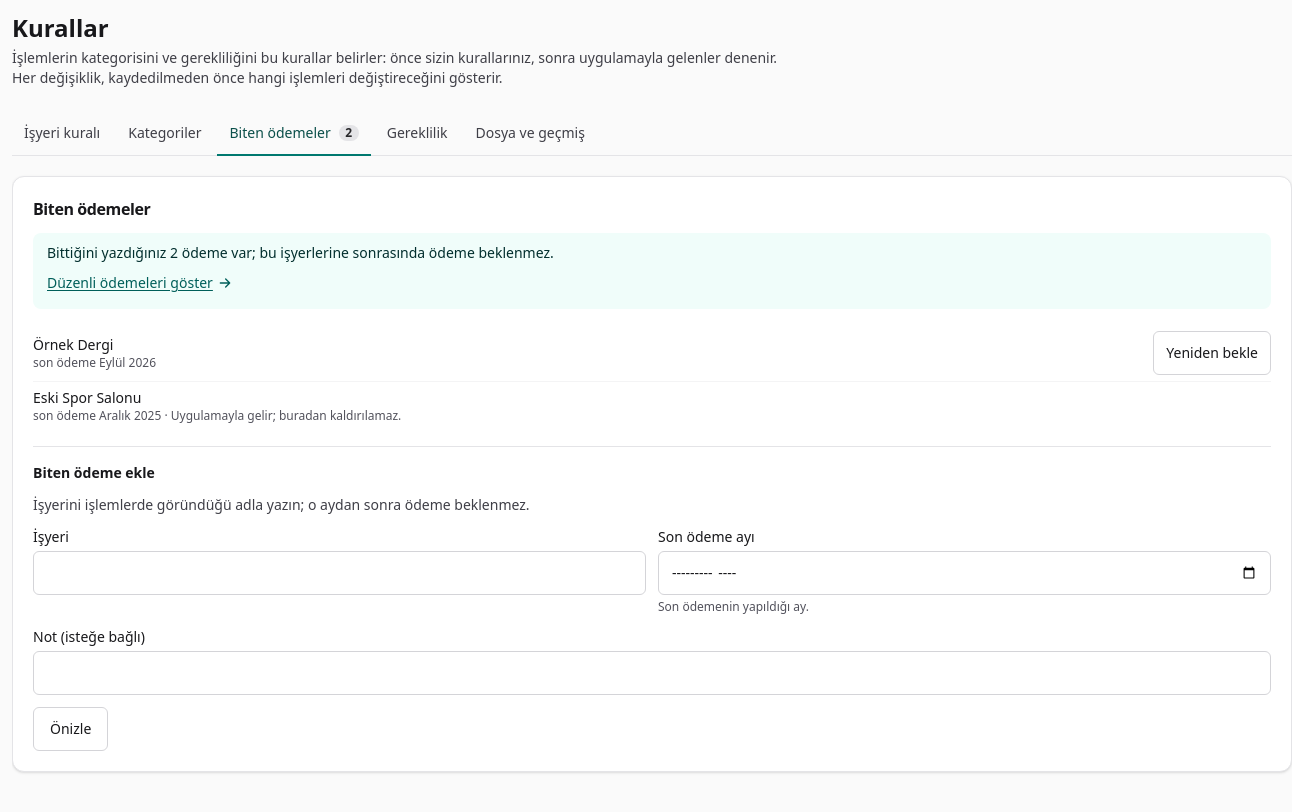
RulesPage: what the rules hold › lists the ended payments, the merchants weighed apart and the file's earlier versions
Expected: the text "Bittiğini yazdığınız 2 ödeme var;" is shown, [47, 243, 554, 262]
Expected: the text "son ödeme Eylül 2026" is shown, [33, 355, 156, 371]
Click the tab "Gereklilik" at (417, 134), box [375, 112, 460, 156]
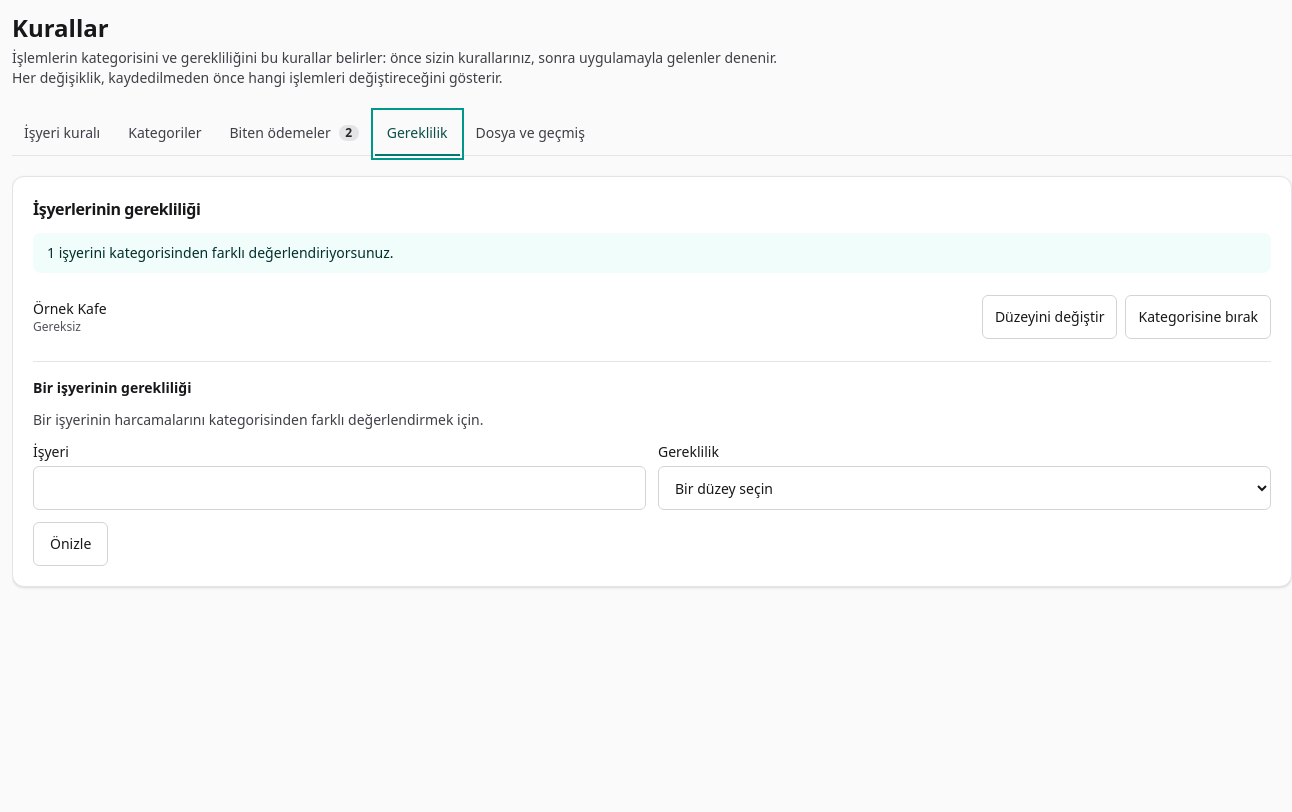
Result: the text "1 işyerini kategorisinden farklı değerlendiriyorsunuz." is shown at [47, 243, 394, 263]
Result: the text "Gereksiz" is shown at [33, 318, 81, 335]
Click the tab "Dosya ve geçmiş" at (530, 134), box [464, 112, 597, 156]
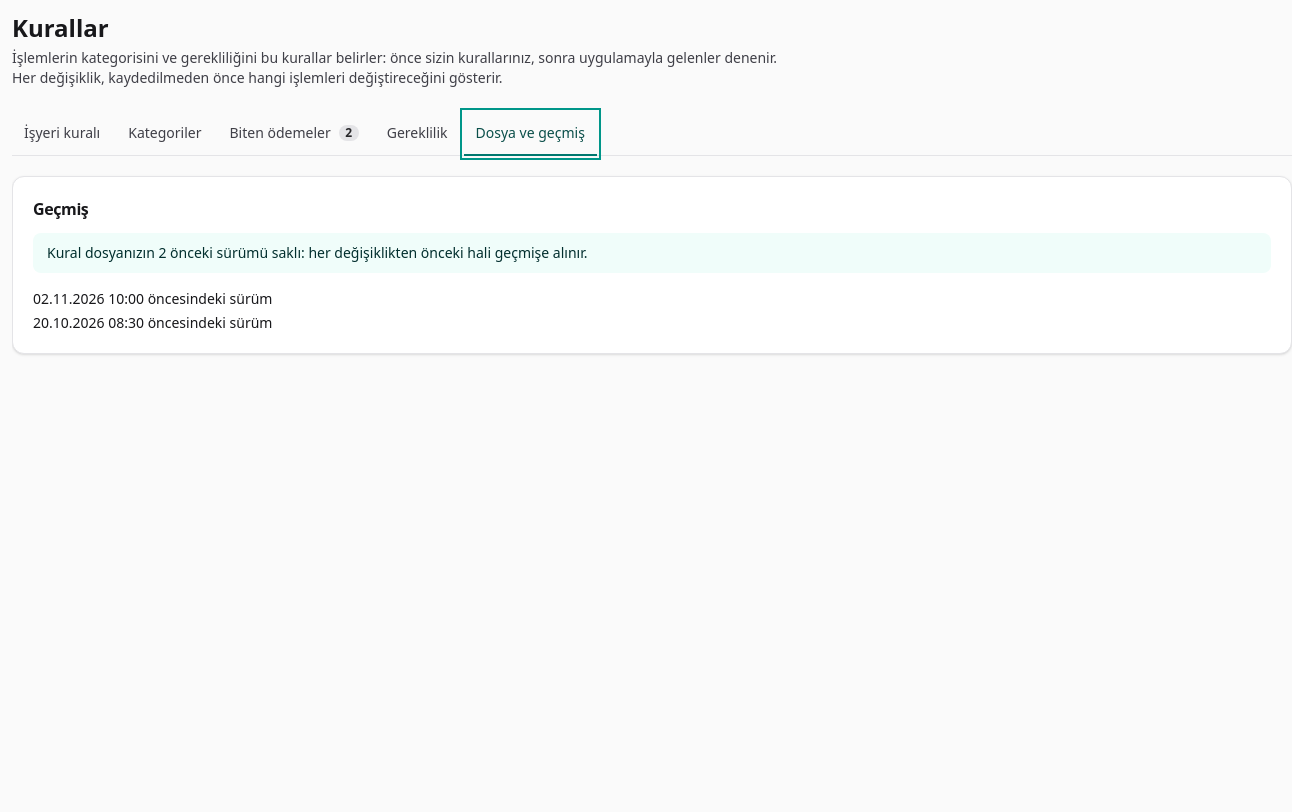
Result: the list items read "02.11.2026 10:00 öncesindeki sürüm", "20.10.2026 08:30 öncesindeki sürüm", in this order at [33, 289, 272, 308]; [33, 313, 272, 332]
